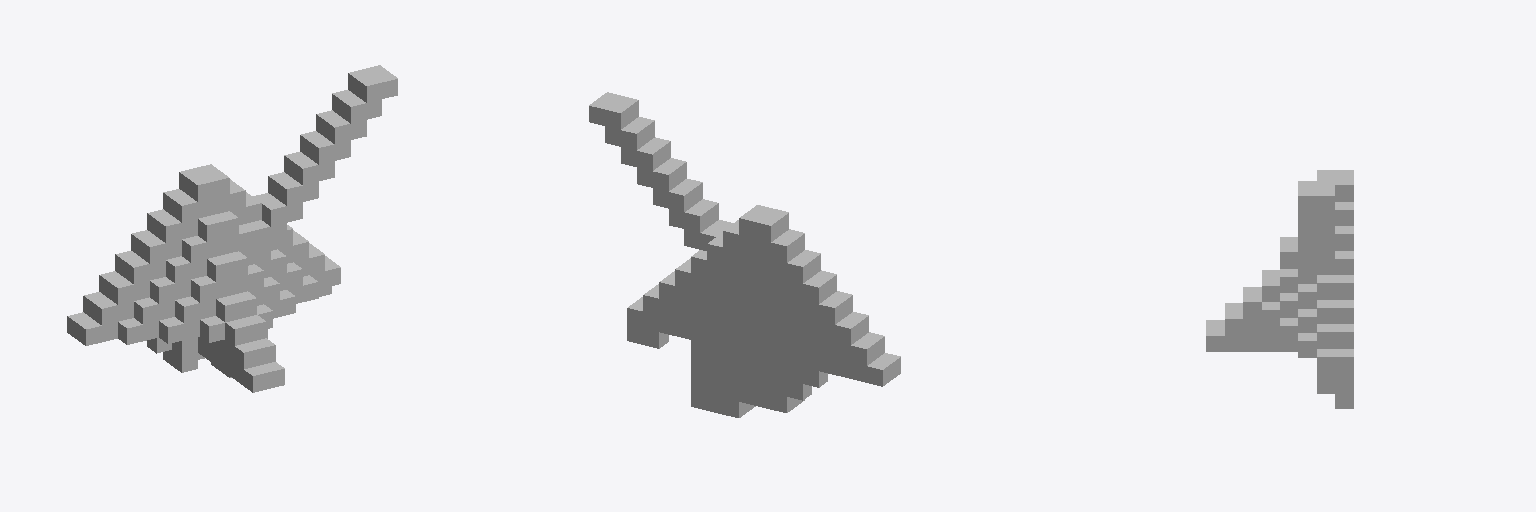
The model's file is Schalter Gefängnis 5.obj.
The picture shows the model from 3 angles: view 1: azimuth 30°, elevation 25°; view 2: azimuth 150°, elevation 25°; view 3: azimuth 270°, elevation 25°; orthographic projection.
Bounding box in the file's own units: 19 × 16 × 8.